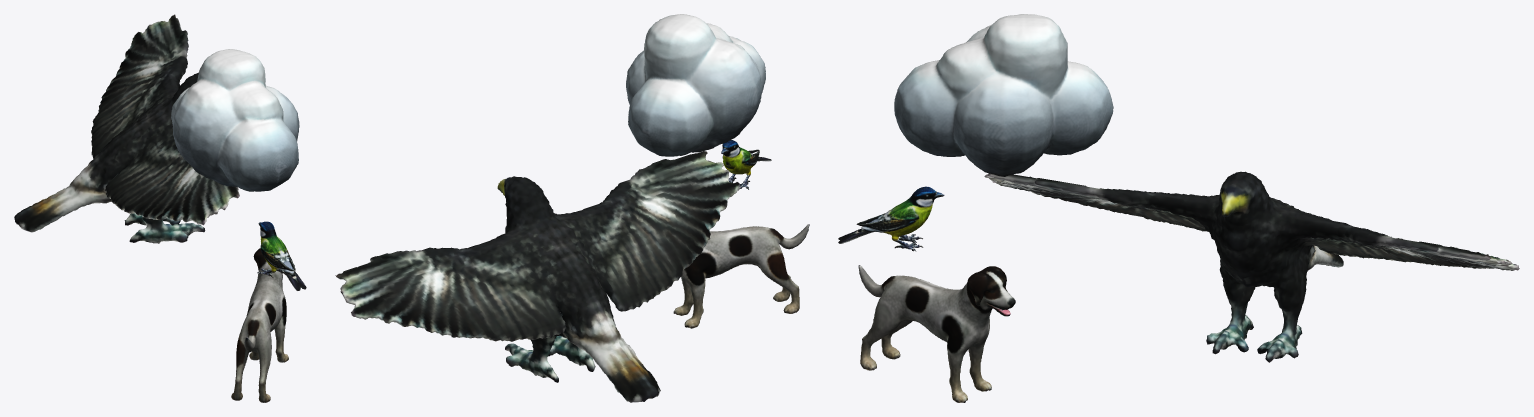
Rendered from condor1.glb.
3 views of the same model, side by side, from view 1: azimuth 30°, elevation 25°; view 2: azimuth 150°, elevation 25°; view 3: azimuth 270°, elevation 25° (orthographic). The views are drawn at different scales.
Parts seen in each view (by area): view 1: Mesh_0.003, Mesh_0, Mesh_0.001, Mesh_0.002; view 2: Mesh_0.003, Mesh_0, Mesh_0.001, Mesh_0.002; view 3: Mesh_0, Mesh_0.003, Mesh_0.001, Mesh_0.002.
Part boxes in pixels (x1,y1,x2,y2): Mesh_0.003: (14,14,239,243); Mesh_0: (171,49,299,191); Mesh_0.001: (231,248,288,402); Mesh_0.002: (257,221,306,290); Mesh_0.003: (335,151,739,402); Mesh_0: (626,14,765,156); Mesh_0.001: (673,224,809,328); Mesh_0.002: (721,140,771,190); Mesh_0: (894,14,1113,176); Mesh_0.003: (984,171,1519,362); Mesh_0.001: (858,265,1015,402); Mesh_0.002: (838,186,944,251).
Bounding box in the file's own units: 22.06 × 27.16 × 45.88.
Materials: 4 (4 with a texture image).
